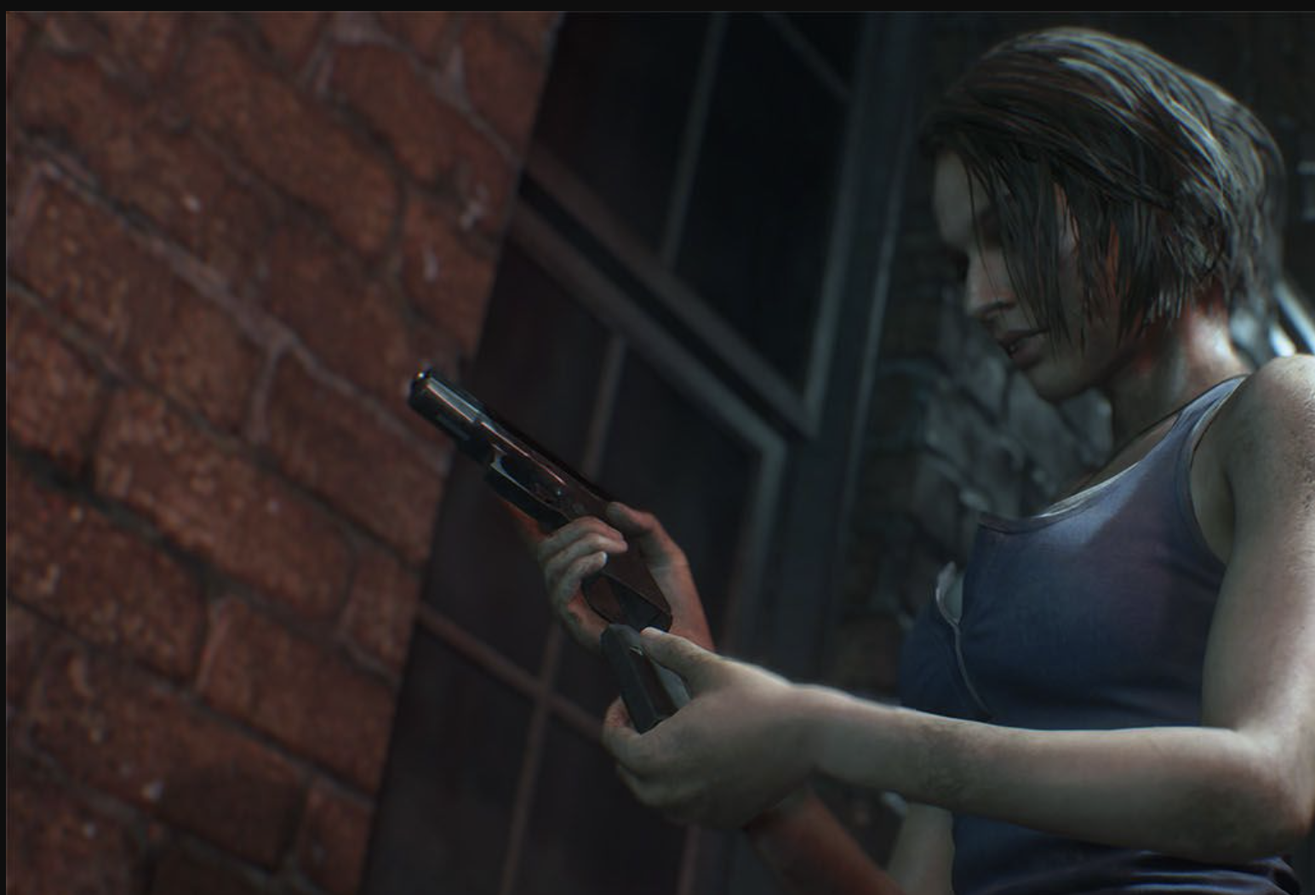gun_022: (397, 354, 687, 649)
